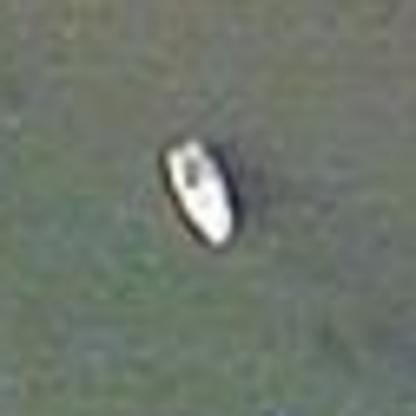ship: (151, 130, 242, 256)
